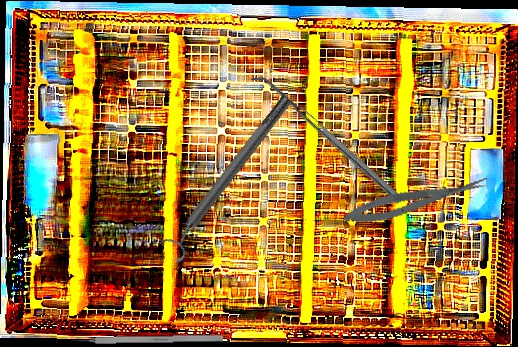Fixation Ring: (155, 89, 301, 265)
Hook Surgical: (65, 334, 224, 345)
Micro Scissor: (342, 172, 491, 230)
Spatula Surgical: (250, 69, 403, 209)
